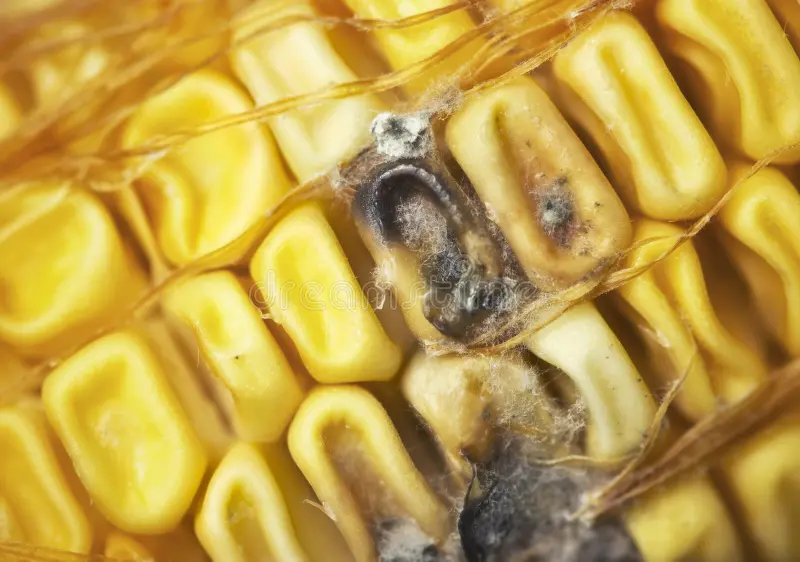rotten corn: (223, 94, 707, 558)
